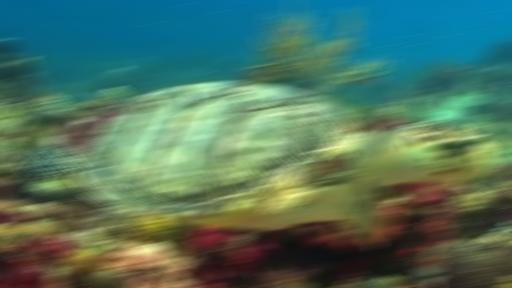Fish: (21, 81, 494, 247)
